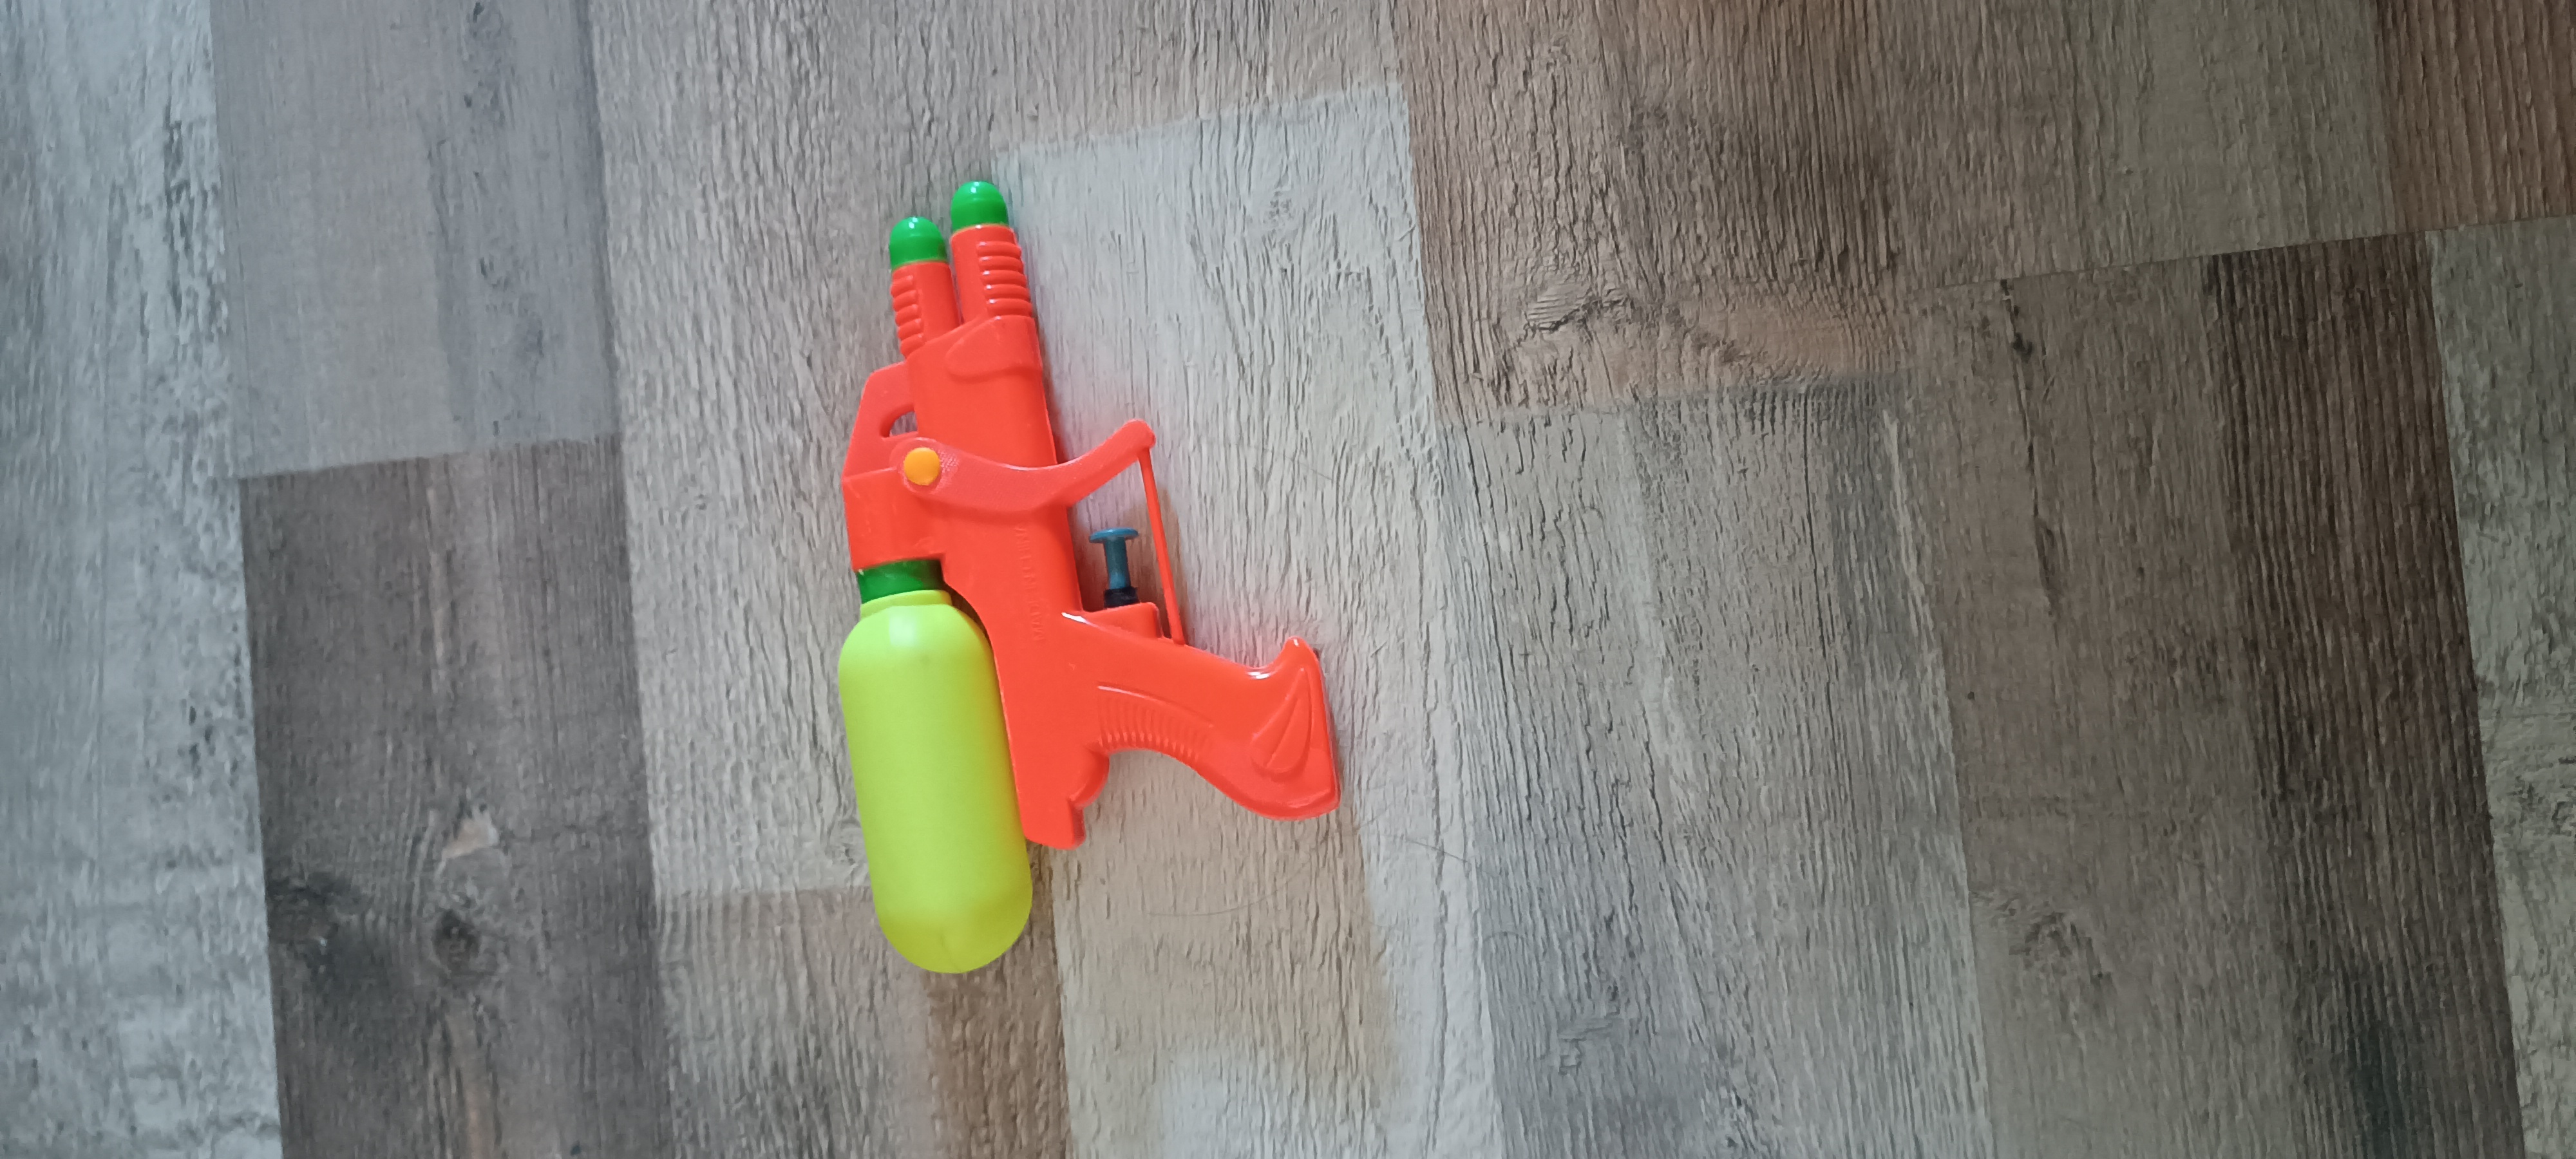Water Gun: (835, 179, 1342, 975)
